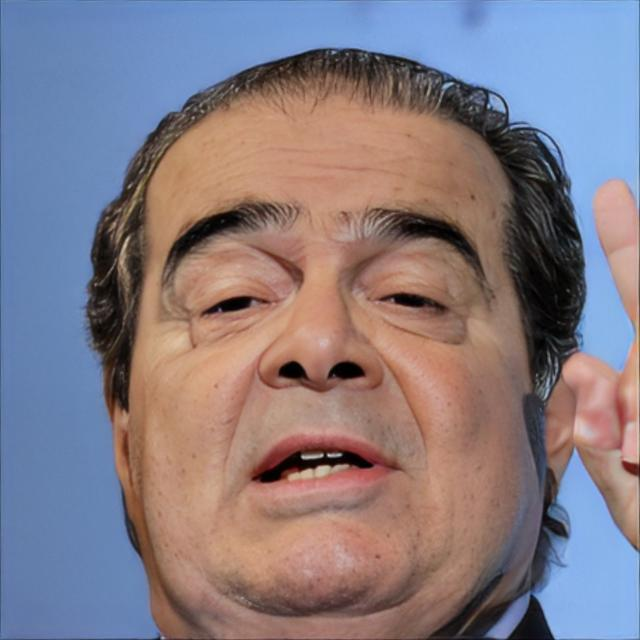surprise: (128, 99, 541, 618)
